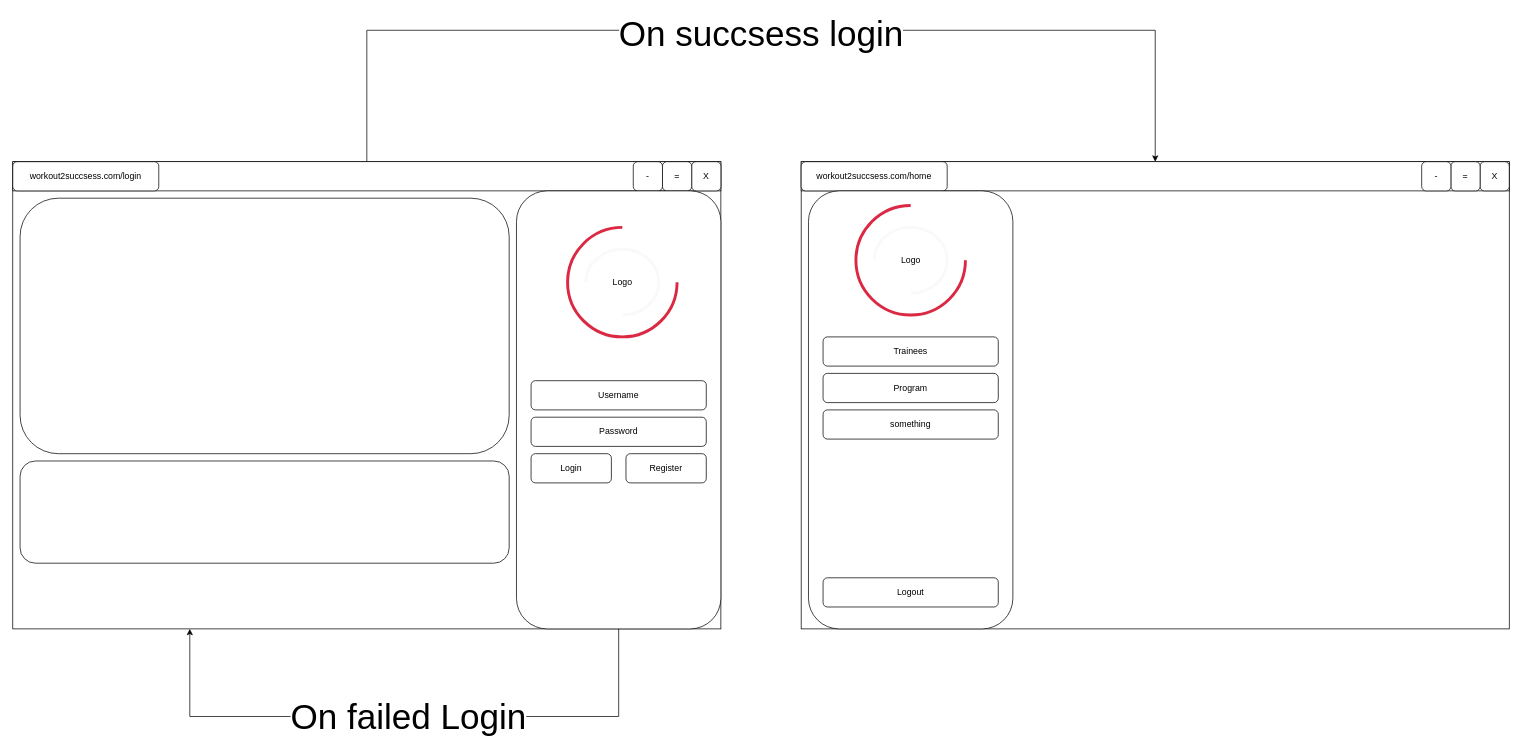
Some shapes in this 1522 by 750 pixel diagram are drawn without their labels. Each missing label, with the centre of its shape:
"Description" goes at point 264,511.
"Image/video presentation" goes at point 264,325.
